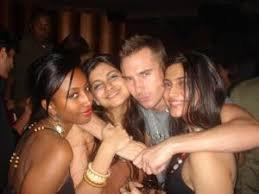Drunk: (120, 55, 161, 107), (61, 68, 93, 125), (164, 66, 197, 114), (90, 63, 125, 107)
